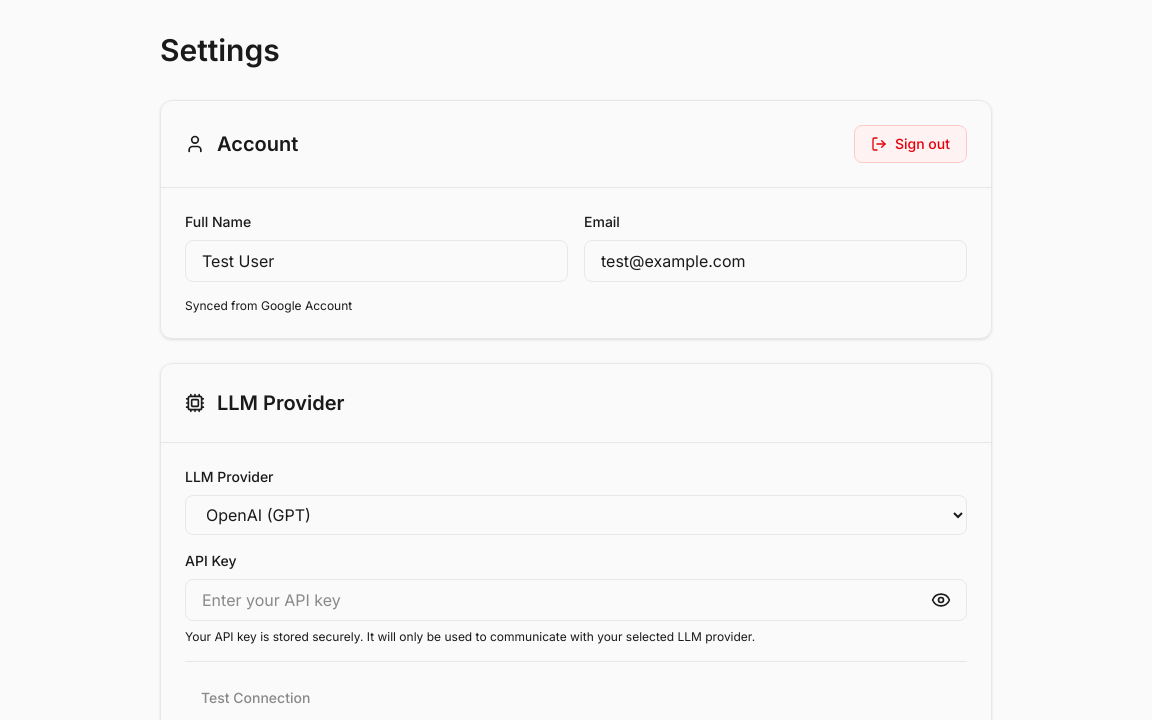
Settings Component - Test Connection › should disable button when API key is cleared
# Enter API key
Step 1. Type "sk-test1234567890" into the password field with test id "ai-agent-api-key" → [576, 600], box [185,579,967,621]
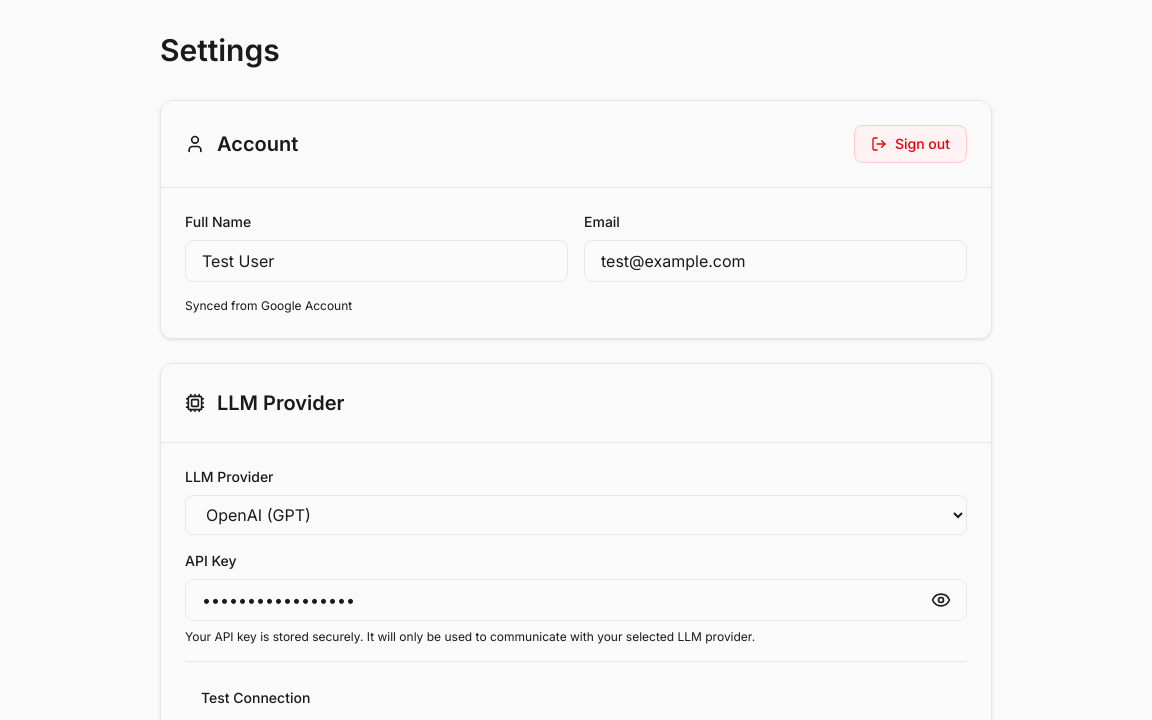
Expected: the button "Test Connection" is enabled, [185,678,326,718]
# Clear API key
Step 2. Clear the password field with test id "ai-agent-api-key" → [576, 600], box [185,579,967,621]
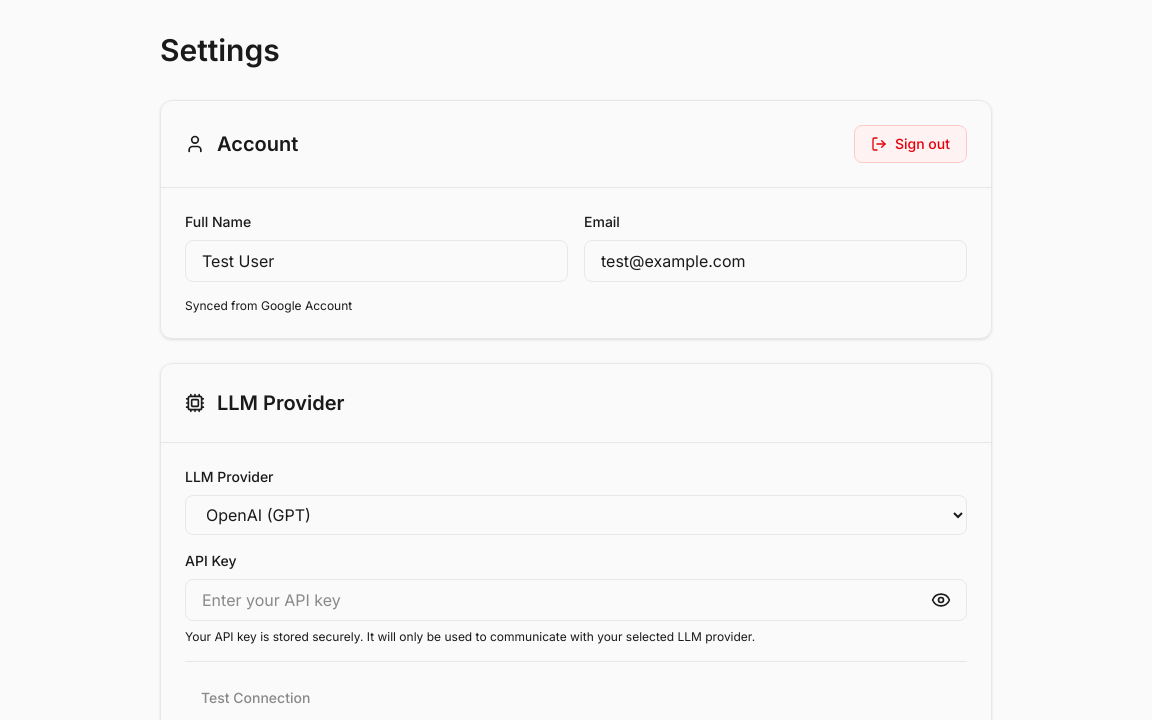
Expected: the button "Test Connection" is disabled, [185,678,326,718]
